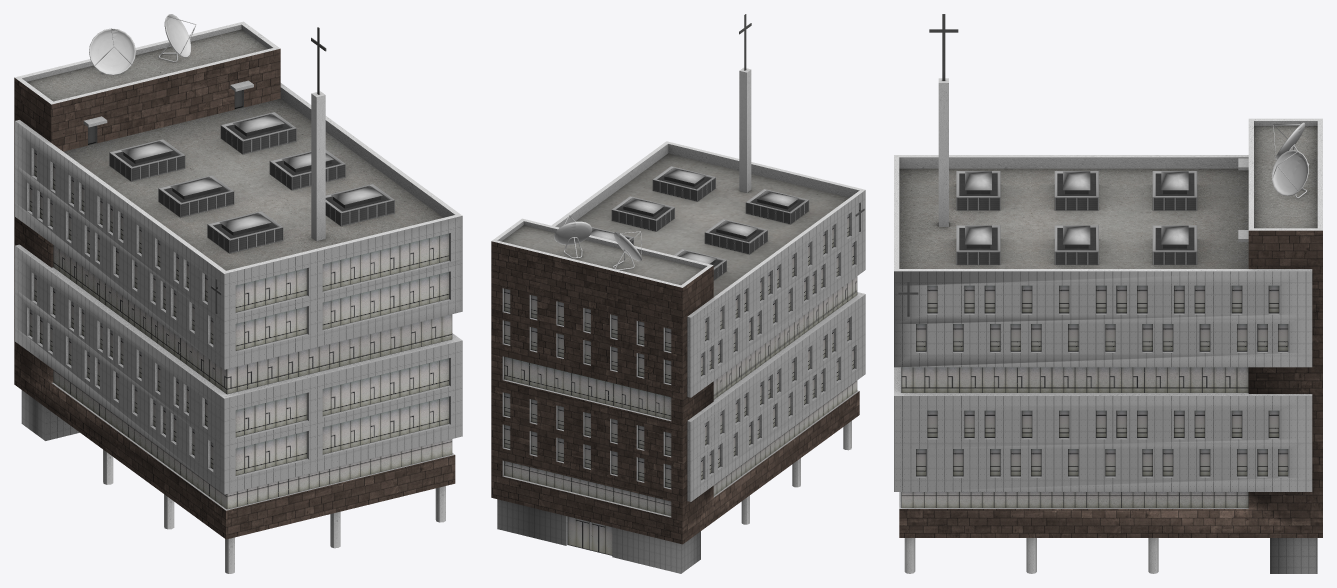
3 renders of one model, left to right at view 1: azimuth 30°, elevation 25°; view 2: azimuth 150°, elevation 25°; view 3: azimuth 270°, elevation 25°, orthographic. The views are drawn at different scales.
Parts seen in each view (by area): view 1: MainBuilding; view 2: MainBuilding; view 3: MainBuilding.
Boxes of the visible parts, x1,y1,x2,y2 form: MainBuilding: (14,14,462,573); MainBuilding: (491,14,865,573); MainBuilding: (894,14,1322,573).
Size of the model in its own units: 2.62 by 5.27 by 4.05.
1 material, 1 textured.
